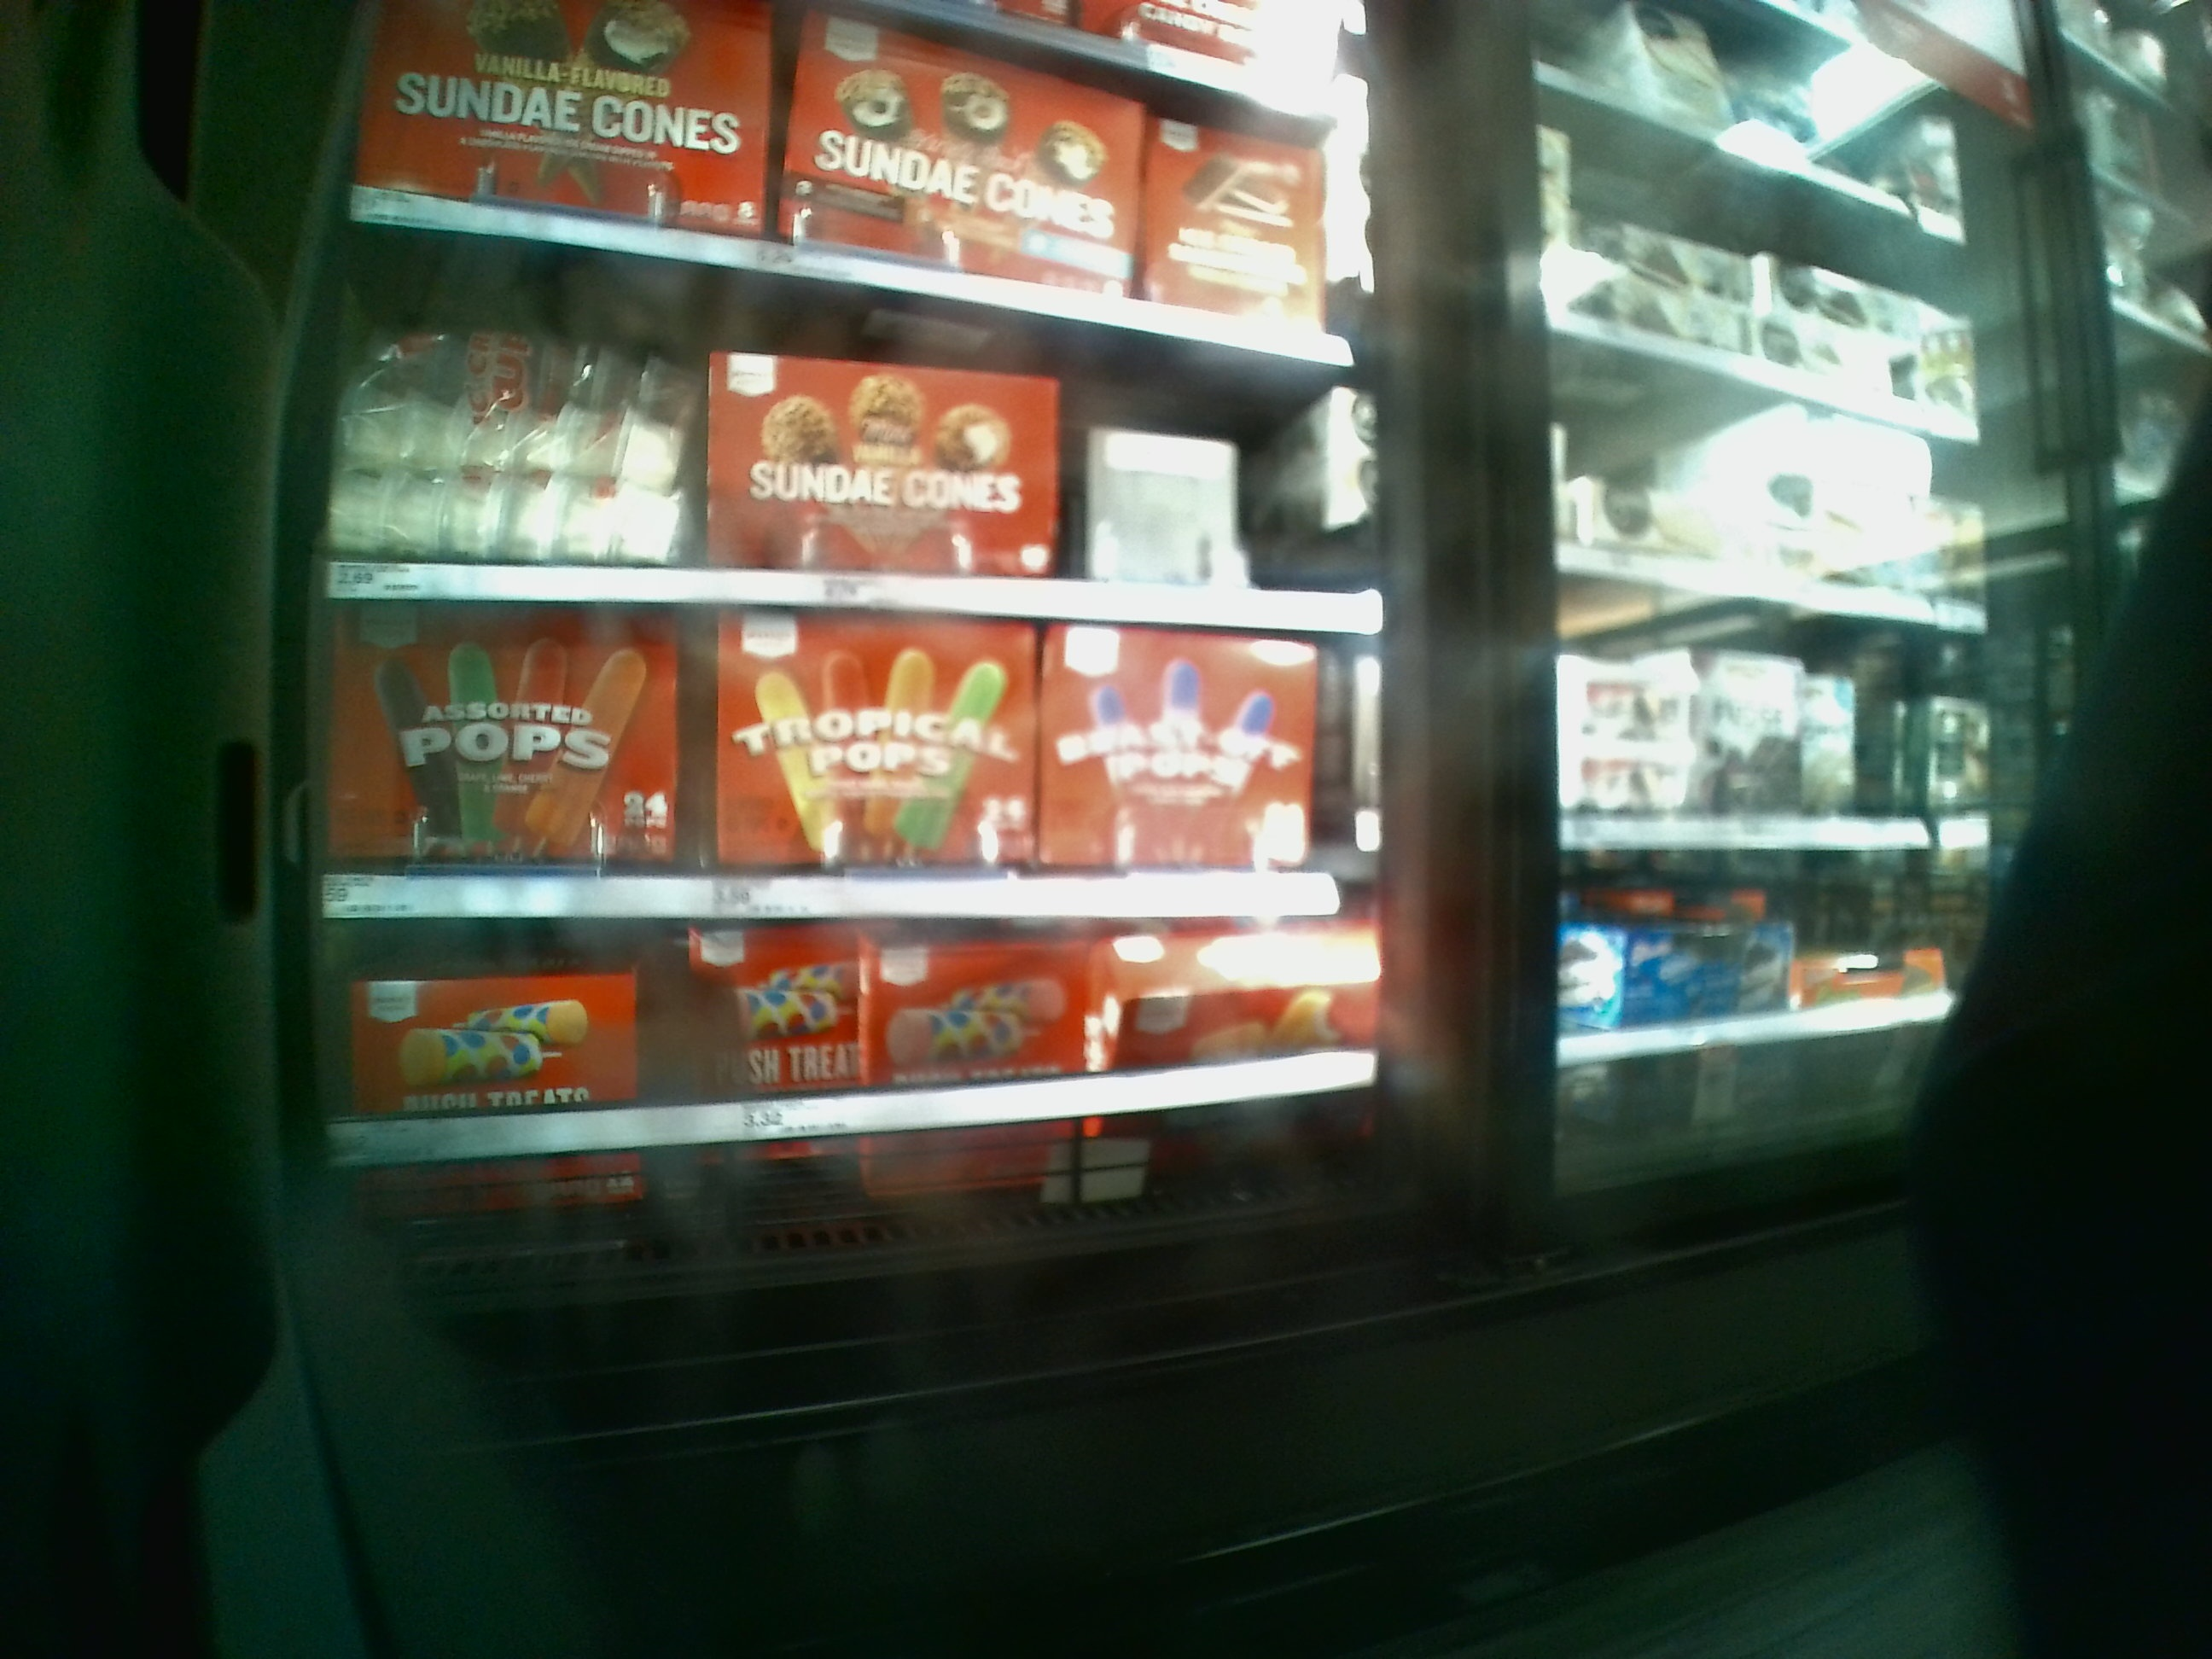shelf: (340, 293, 1371, 619), (361, 929, 1369, 1256), (345, 610, 1357, 924)
